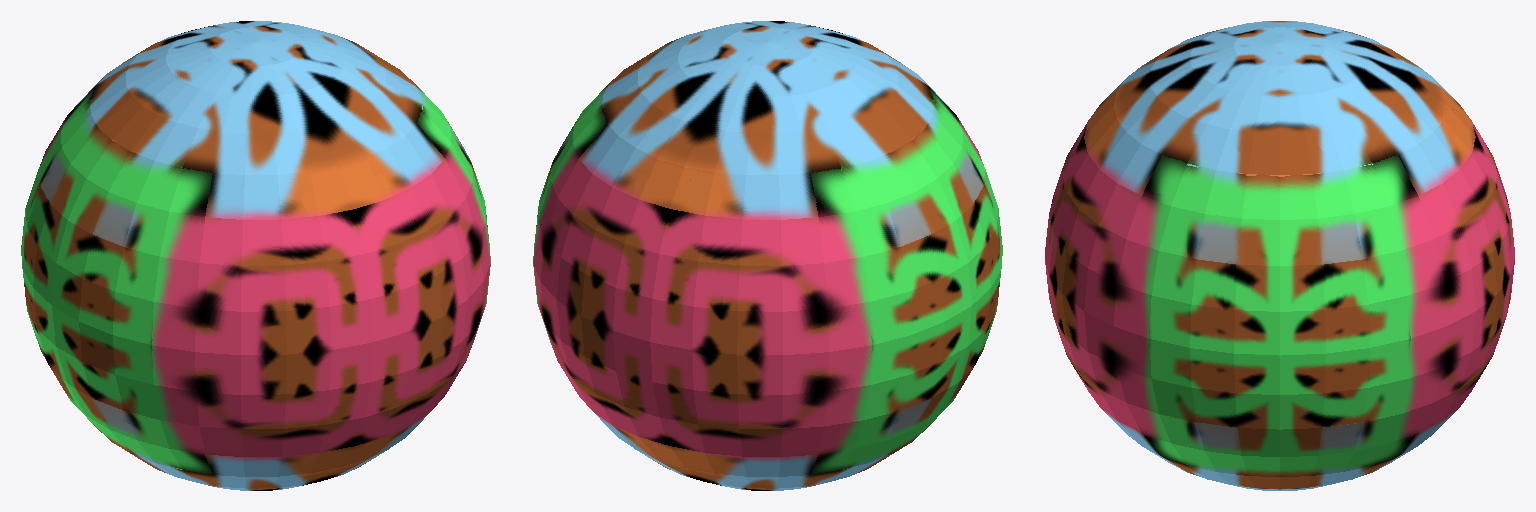
3 views of the same model, side by side, from view 1: azimuth 30°, elevation 25°; view 2: azimuth 150°, elevation 25°; view 3: azimuth 270°, elevation 25° (orthographic).
Visible parts, largest first — view 1: Sphere_Sphere.001; view 2: Sphere_Sphere.001; view 3: Sphere_Sphere.001.
Part boxes in pixels (x1,y1,x2,y2): Sphere_Sphere.001: (21, 21, 490, 490); Sphere_Sphere.001: (533, 21, 1002, 490); Sphere_Sphere.001: (1045, 21, 1514, 490).
Bounding box in the file's own units: 2 × 2 × 2.
1 materials, 1 textured.